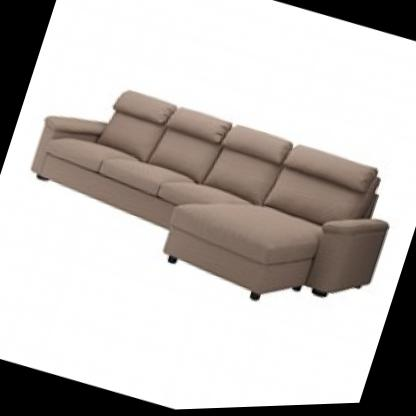Sofa: (4, 44, 414, 344)
